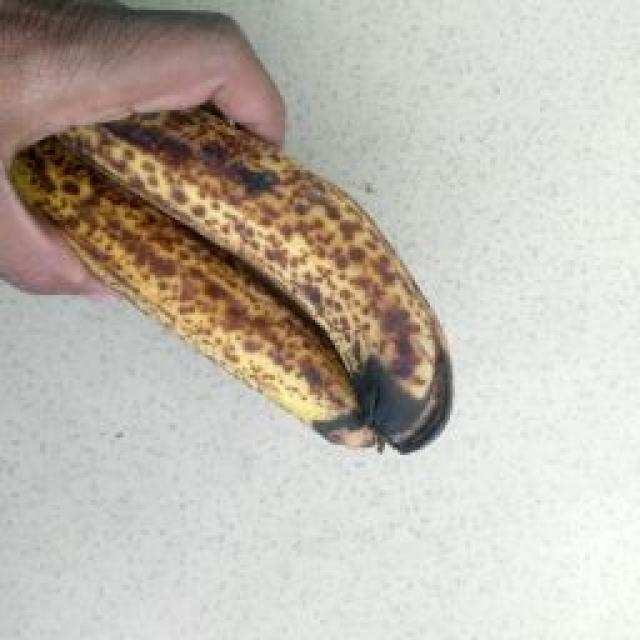banana: (56, 136, 529, 539)
